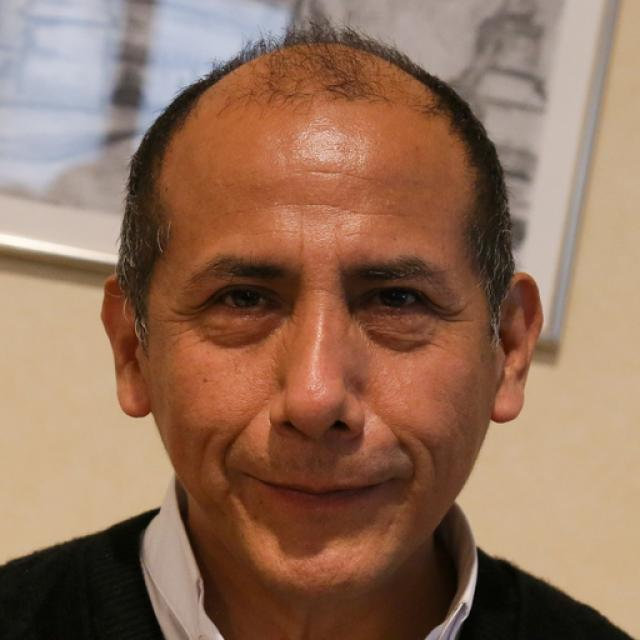Wrinkle: (220, 195, 411, 222), (295, 164, 375, 183)
